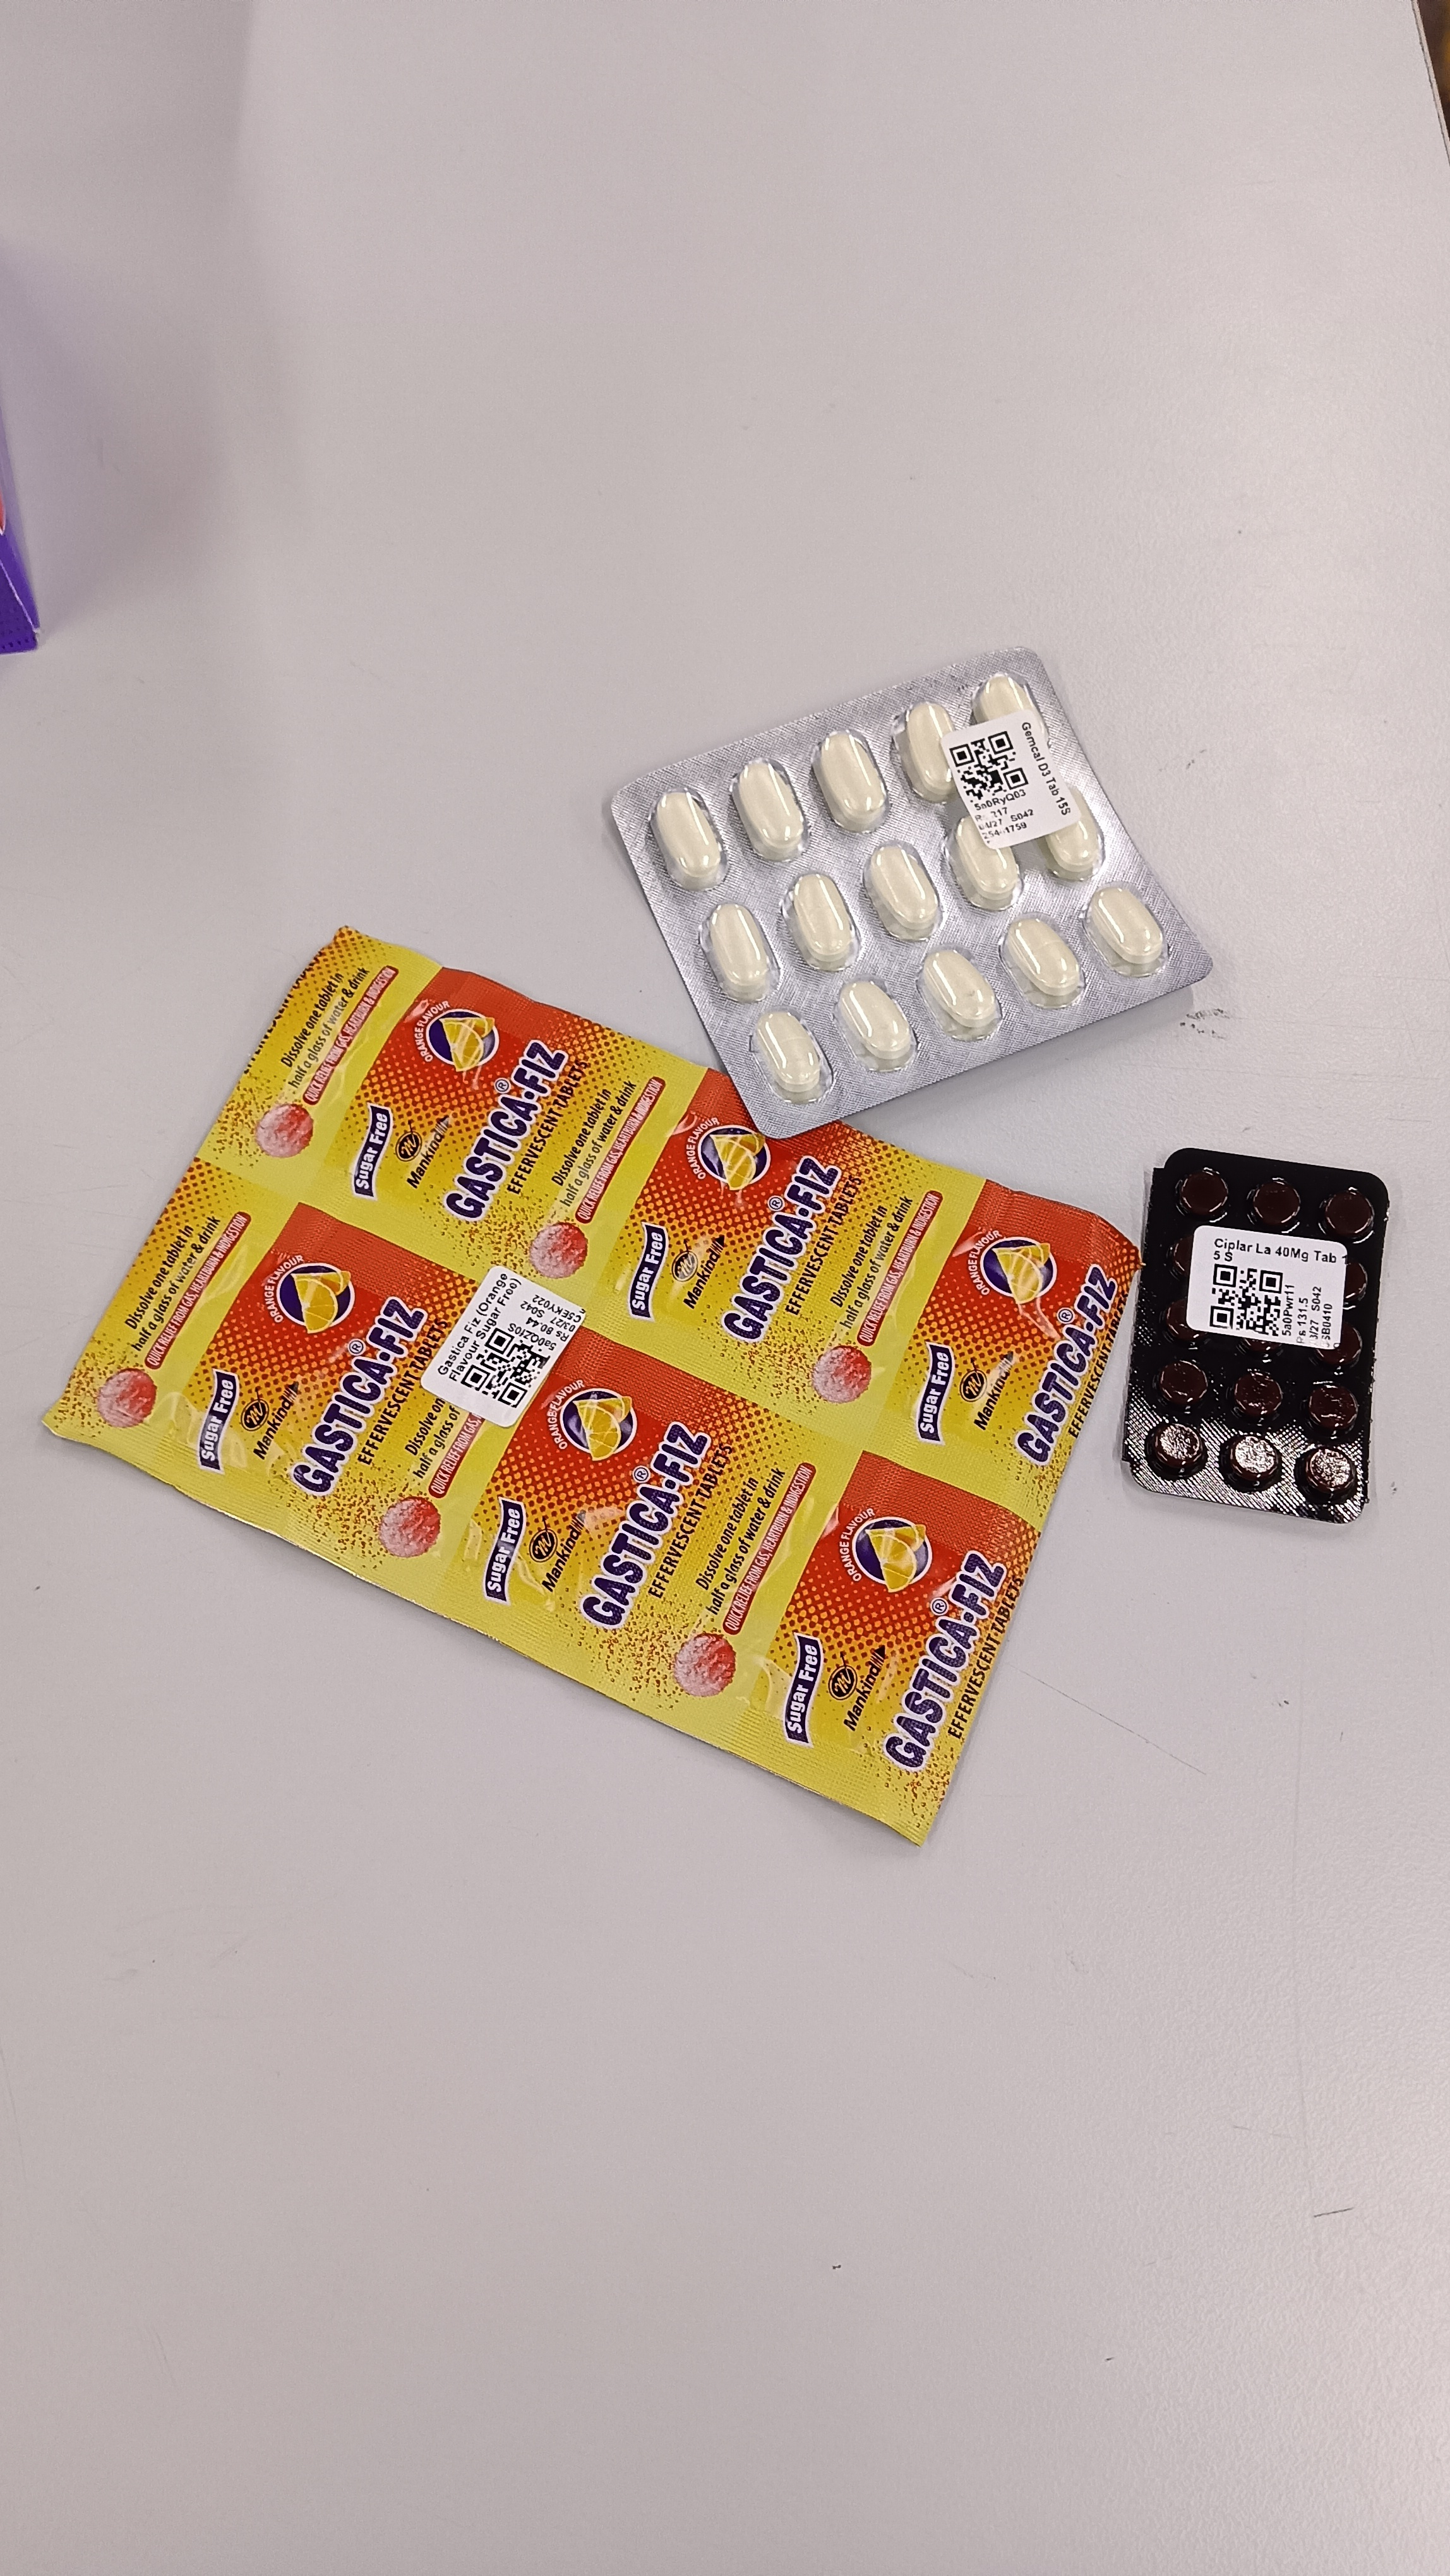QR: (949, 695, 1029, 766)
